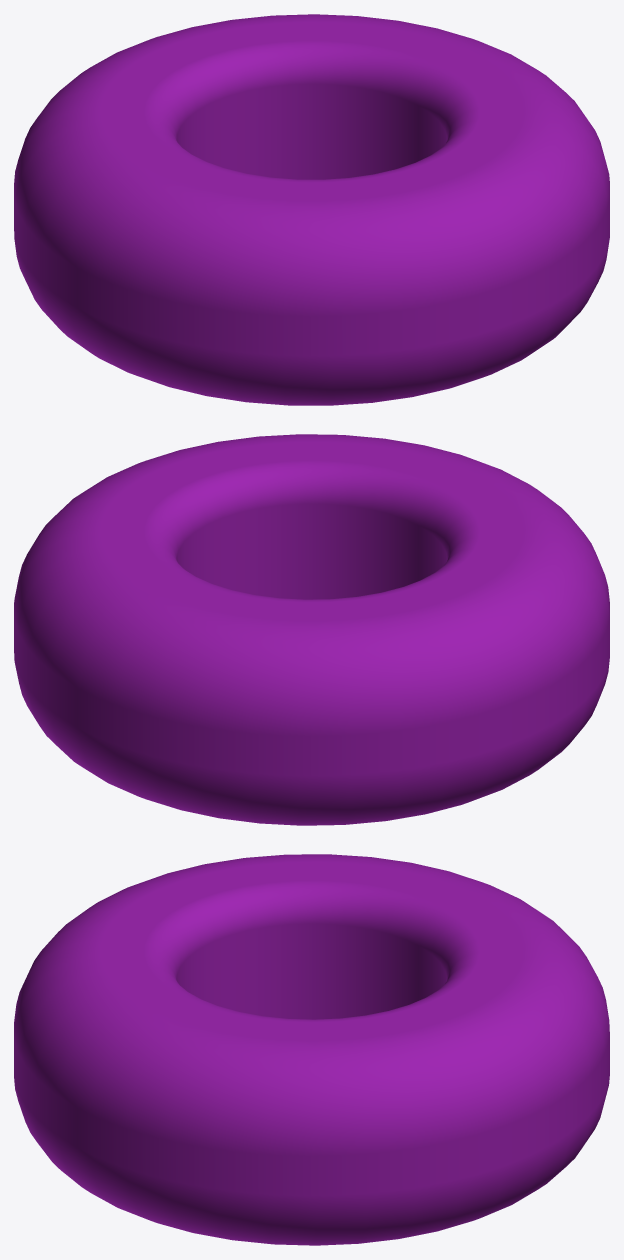
Rendered from disk6.dae.
3 renders of one model, top to bottom at view 1: azimuth 30°, elevation 25°; view 2: azimuth 150°, elevation 25°; view 3: azimuth 270°, elevation 25°, orthographic.
Parts seen in each view (by area): view 1: ID2; view 2: ID2; view 3: ID2.
Part boxes in pixels (x1,y1,x2,y2): ID2: (14, 14, 609, 405); ID2: (14, 434, 609, 825); ID2: (14, 854, 609, 1245).
Size of the model in its own units: 0.0275 by 0.0275 by 0.01.
